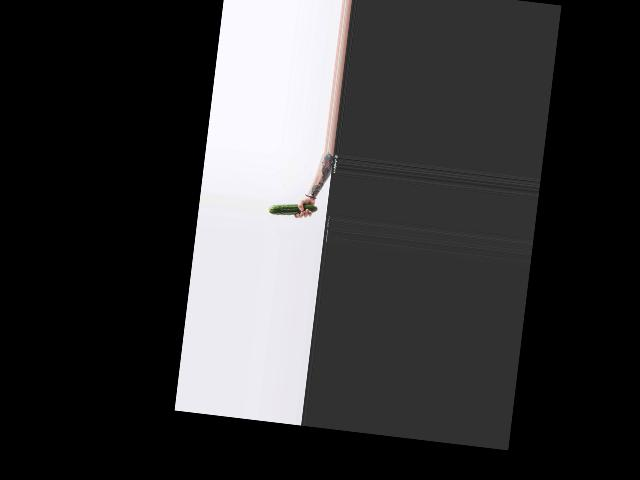cucumber: (268, 200, 317, 220)
